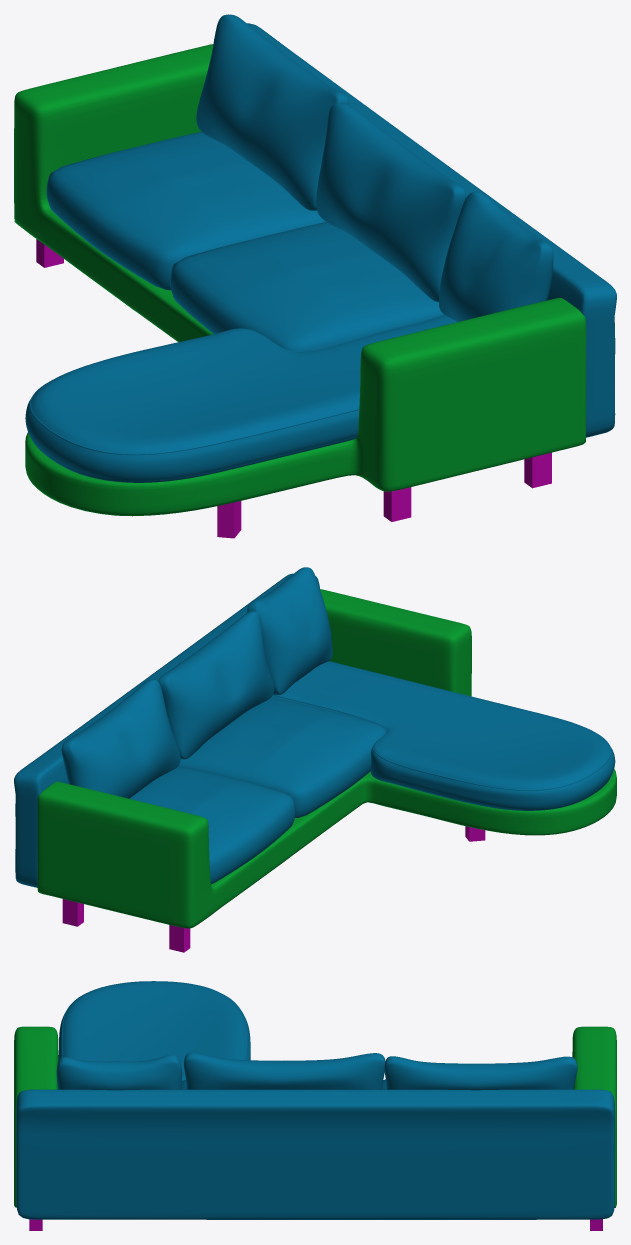
The model's file is Sofa.fbx.
3 views of the same model, one above another, from view 1: azimuth 30°, elevation 25°; view 2: azimuth 150°, elevation 25°; view 3: azimuth 270°, elevation 25° (orthographic). The views are drawn at different scales.
Visible parts, largest first — view 1: Object012; view 2: Object012; view 3: Object012.
Boxes of the visible parts, x1=… form: Object012: x1=14, y1=14, x2=616, y2=538; Object012: x1=14, y1=567, x2=616, y2=952; Object012: x1=14, y1=981, x2=616, y2=1230.
Size of the model in its own units: 185 by 79.94 by 242.
